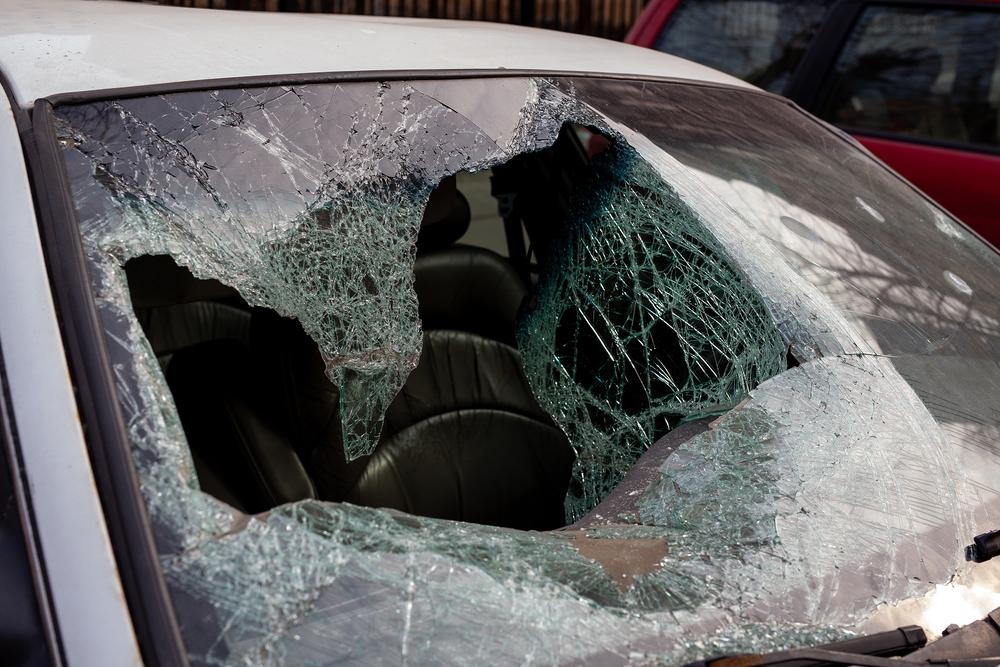glass shatter: (52, 75, 1000, 667)
